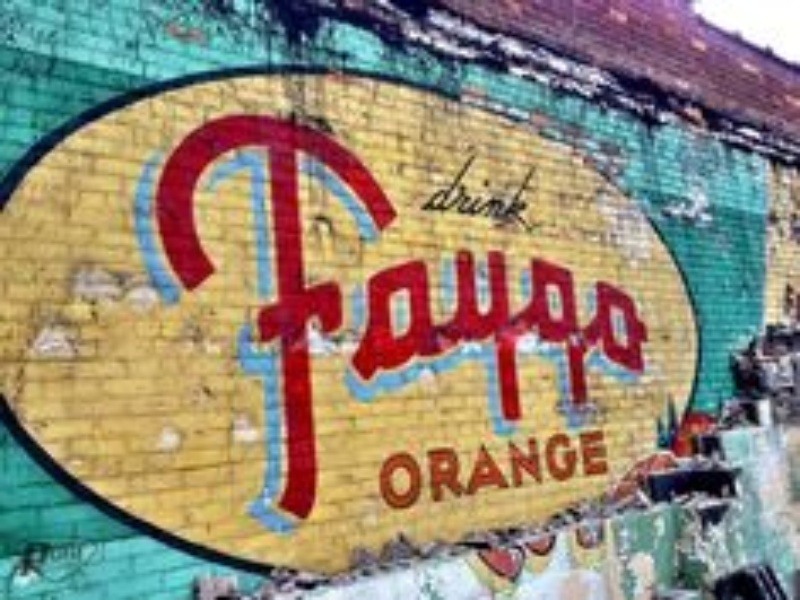text: (161, 92, 176, 539), (177, 92, 192, 539), (193, 92, 208, 539), (209, 92, 224, 539), (225, 92, 240, 539), (241, 92, 256, 539), (257, 92, 272, 539), (273, 92, 288, 539), (289, 92, 304, 539), (305, 92, 320, 539), (321, 92, 336, 539), (337, 92, 352, 539), (353, 92, 368, 539), (369, 92, 384, 539), (385, 92, 400, 539), (401, 92, 416, 539), (417, 92, 432, 539), (433, 92, 448, 539), (449, 92, 464, 539), (465, 92, 480, 539), (481, 92, 496, 539), (497, 92, 512, 539), (513, 92, 528, 539), (529, 92, 544, 539), (545, 92, 560, 539), (561, 92, 576, 539), (577, 92, 592, 539), (593, 92, 608, 539), (609, 92, 624, 539), (625, 92, 640, 539), (641, 92, 656, 539), (150, 92, 160, 539), (385, 421, 400, 512), (401, 421, 416, 512), (417, 421, 432, 512), (433, 421, 448, 512), (449, 421, 464, 512), (465, 421, 480, 512), (481, 421, 496, 512), (497, 421, 512, 512), (513, 421, 528, 512), (529, 421, 544, 512), (545, 421, 560, 512), (561, 421, 576, 512), (577, 421, 592, 512), (593, 421, 608, 512), (465, 143, 480, 231), (481, 143, 496, 231), (497, 143, 512, 231), (513, 143, 528, 231), (529, 143, 544, 231), (370, 421, 384, 512), (17, 536, 32, 584), (33, 536, 48, 584), (49, 536, 64, 584), (65, 536, 80, 584), (81, 536, 96, 584), (97, 536, 109, 584), (458, 143, 464, 231), (657, 92, 658, 539), (545, 143, 550, 231), (609, 421, 611, 512), (14, 536, 16, 584)
